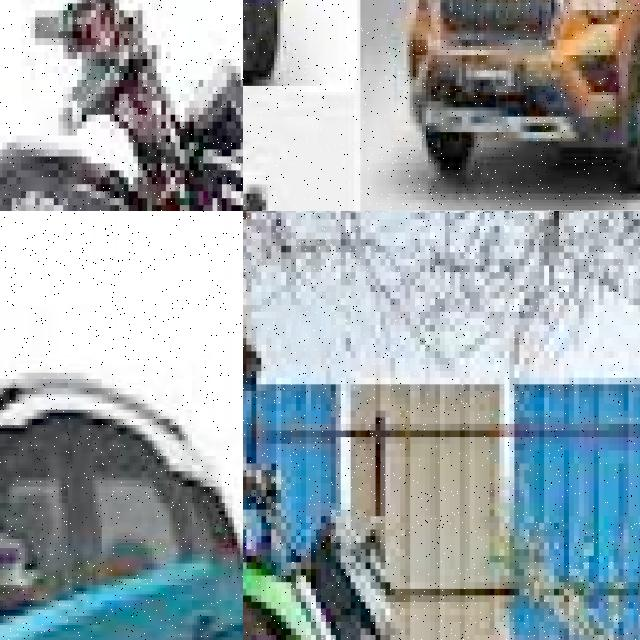bike: (243, 338, 544, 640), (0, 0, 243, 211)
car: (0, 293, 243, 640), (402, 0, 640, 211), (243, 40, 314, 211)
